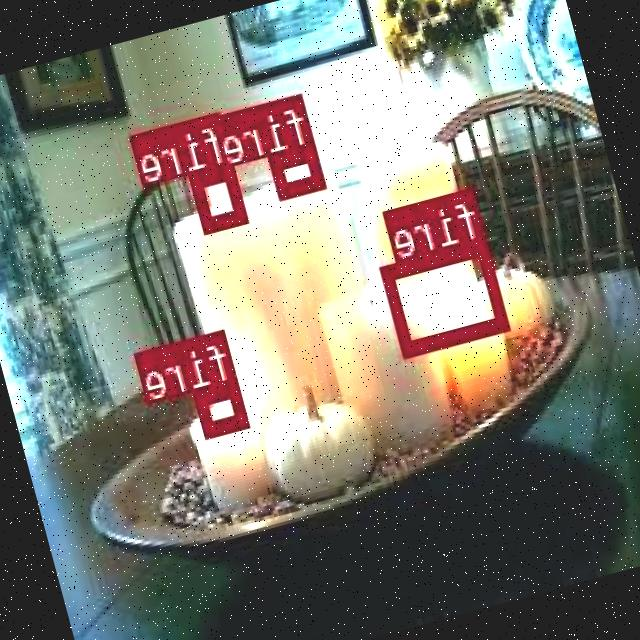fire: (383, 236, 510, 354), (190, 159, 249, 230), (194, 378, 250, 435), (270, 142, 327, 195)
